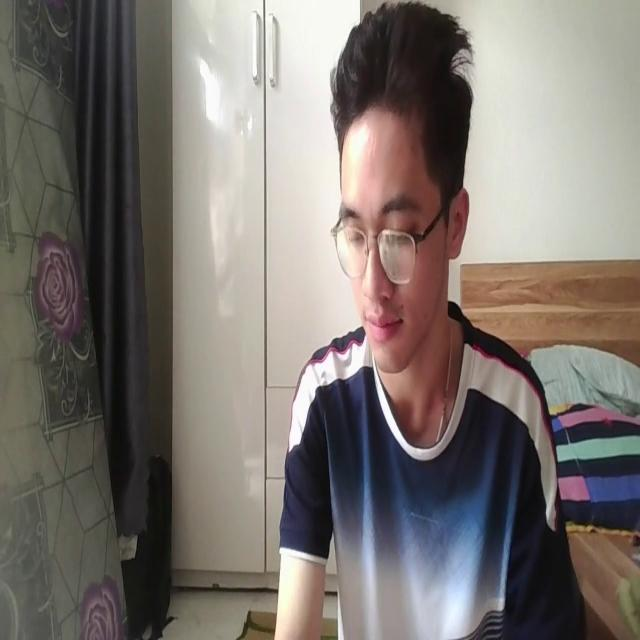student: (274, 2, 576, 640)
